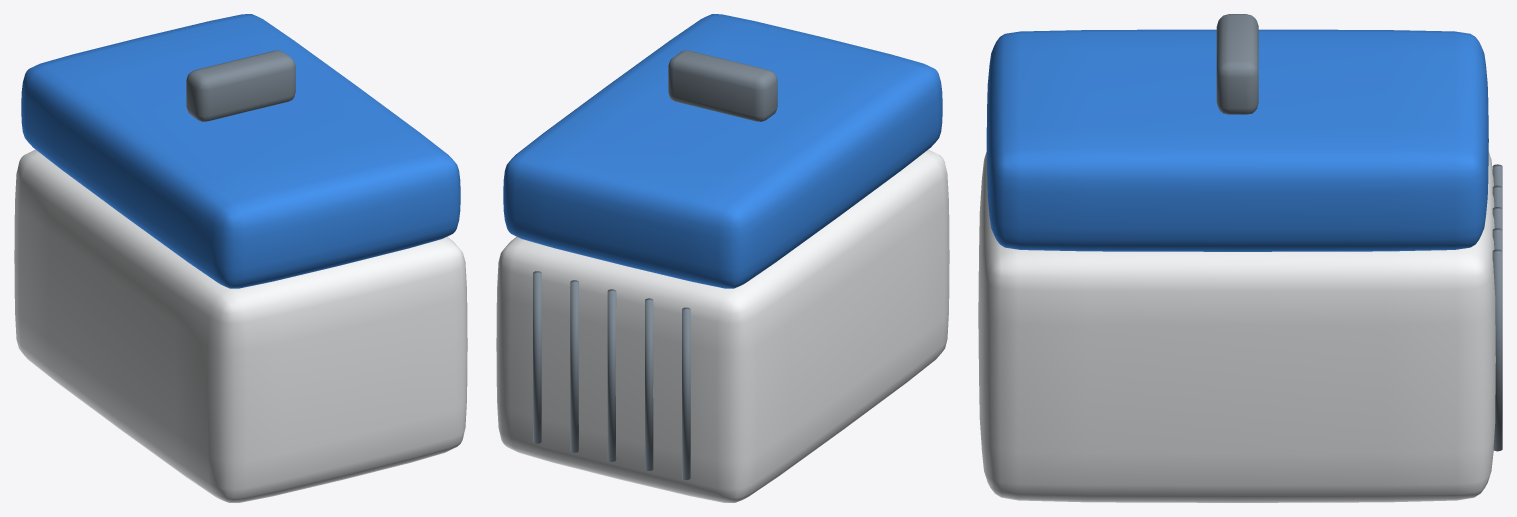
The model's file is carrier.glb.
3 views of the same model, side by side, from view 1: azimuth 30°, elevation 25°; view 2: azimuth 150°, elevation 25°; view 3: azimuth 270°, elevation 25° (orthographic). The views are drawn at different scales.
Visible parts, largest first — view 1: Body; view 2: Body; view 3: Body.
Part boxes in pixels (bbox=[...]): Body: bbox=[14, 14, 467, 502]; Body: bbox=[496, 14, 949, 502]; Body: bbox=[978, 14, 1502, 502].
Bounding box in the file's own units: 0.4189 × 0.5344 × 0.6254.
